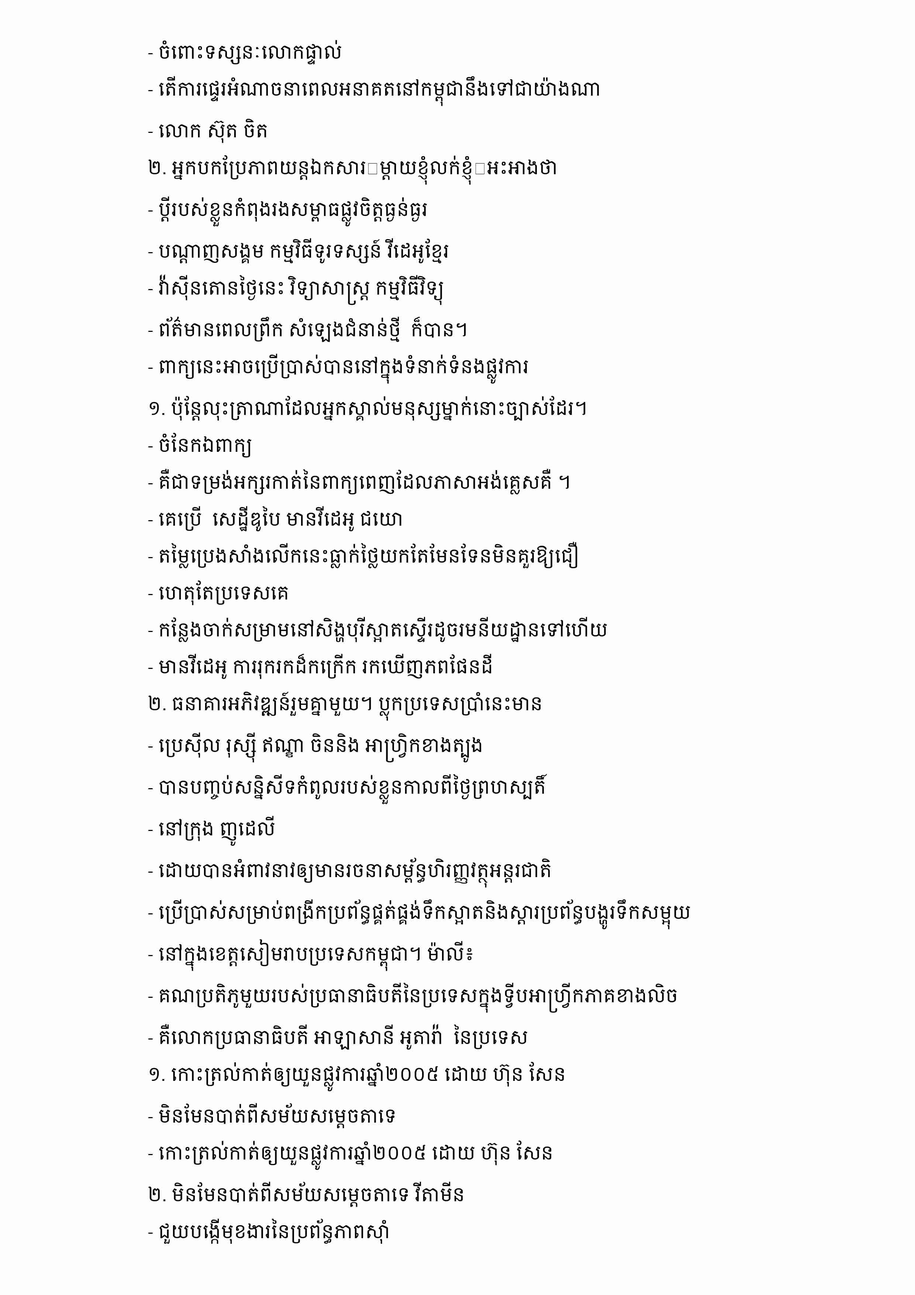text: (148, 899, 696, 930), (148, 983, 683, 1013), (148, 76, 606, 106), (148, 1062, 571, 1092), (148, 155, 563, 185), (148, 1140, 559, 1170), (148, 858, 557, 888), (148, 774, 551, 804), (148, 691, 548, 721), (148, 542, 584, 569), (148, 617, 613, 642), (148, 354, 534, 384), (148, 469, 576, 495), (148, 396, 592, 421), (148, 939, 479, 971), (148, 732, 488, 763), (148, 1024, 533, 1050), (148, 274, 449, 305), (148, 196, 433, 227), (148, 654, 498, 679), (148, 316, 473, 342), (148, 1182, 470, 1207), (148, 238, 454, 264), (148, 506, 408, 532), (148, 1103, 401, 1129), (148, 1219, 395, 1244), (148, 40, 347, 65), (148, 816, 280, 846), (148, 580, 294, 605), (148, 118, 273, 143), (148, 433, 257, 458)
